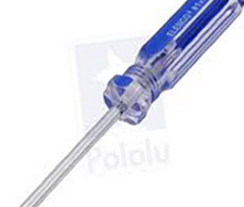Screwdriver: (14, 2, 242, 207)
